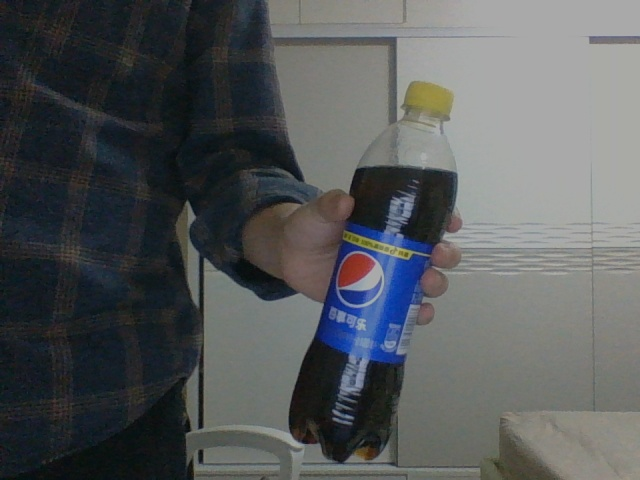Cola: (289, 79, 458, 463)
